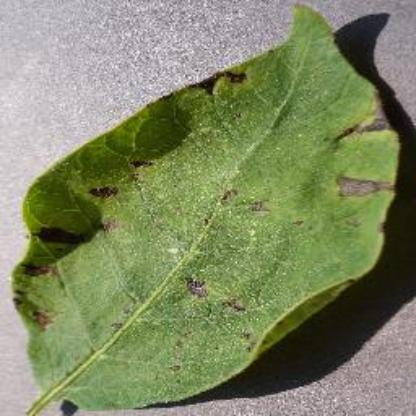Early-Blight: (11, 5, 400, 411)
